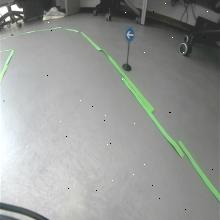left: (124, 26, 136, 43)
